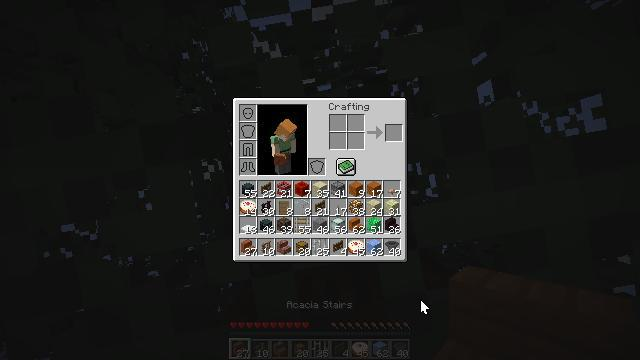cursor: (420, 299, 430, 315)
